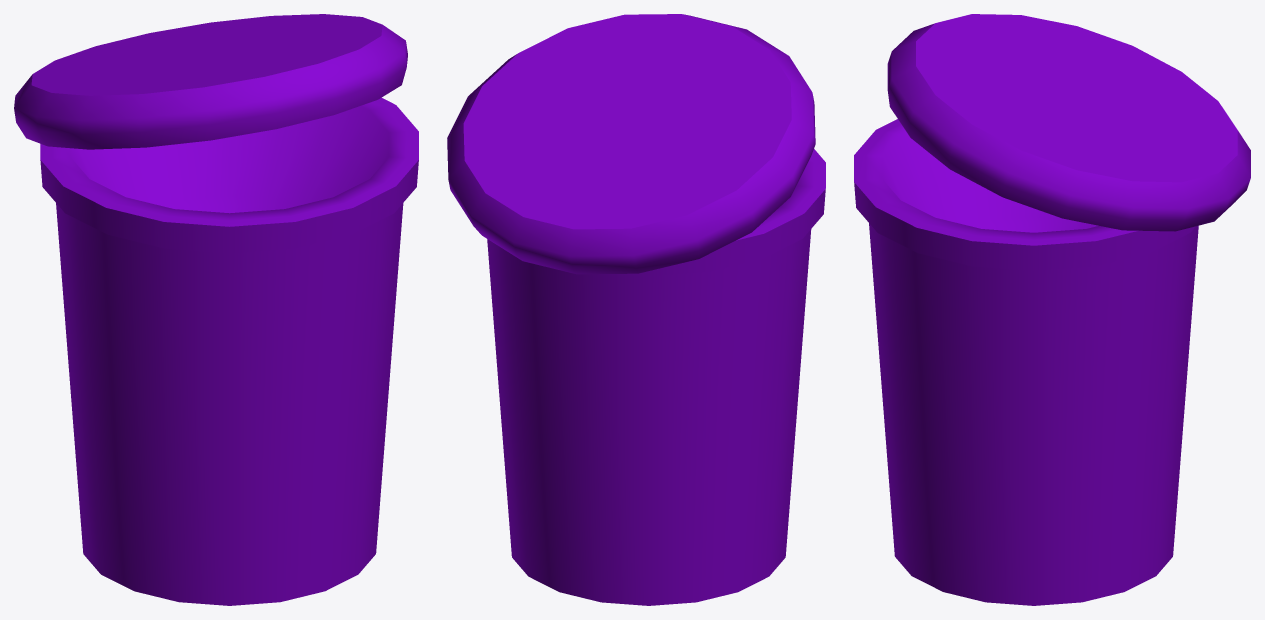
Rendered from trashcan.glb.
3 renders of one model, left to right at view 1: azimuth 30°, elevation 25°; view 2: azimuth 150°, elevation 25°; view 3: azimuth 270°, elevation 25°, orthographic. The views are drawn at different scales.
Parts seen in each view (by area): view 1: trashcan, trashcanlid; view 2: trashcan, trashcanlid; view 3: trashcan, trashcanlid.
Part boxes in pixels (<box>): trashcan: <box>40,97,418,605</box>; trashcanlid: <box>14,14,407,149</box>; trashcan: <box>487,149,825,605</box>; trashcanlid: <box>447,14,815,274</box>; trashcan: <box>854,119,1198,605</box>; trashcanlid: <box>887,14,1250,231</box>.
Size of what is drawn, in the model's own units: 1.44 by 2.05 by 1.5.
Materials: 2 (2 with a texture image).
